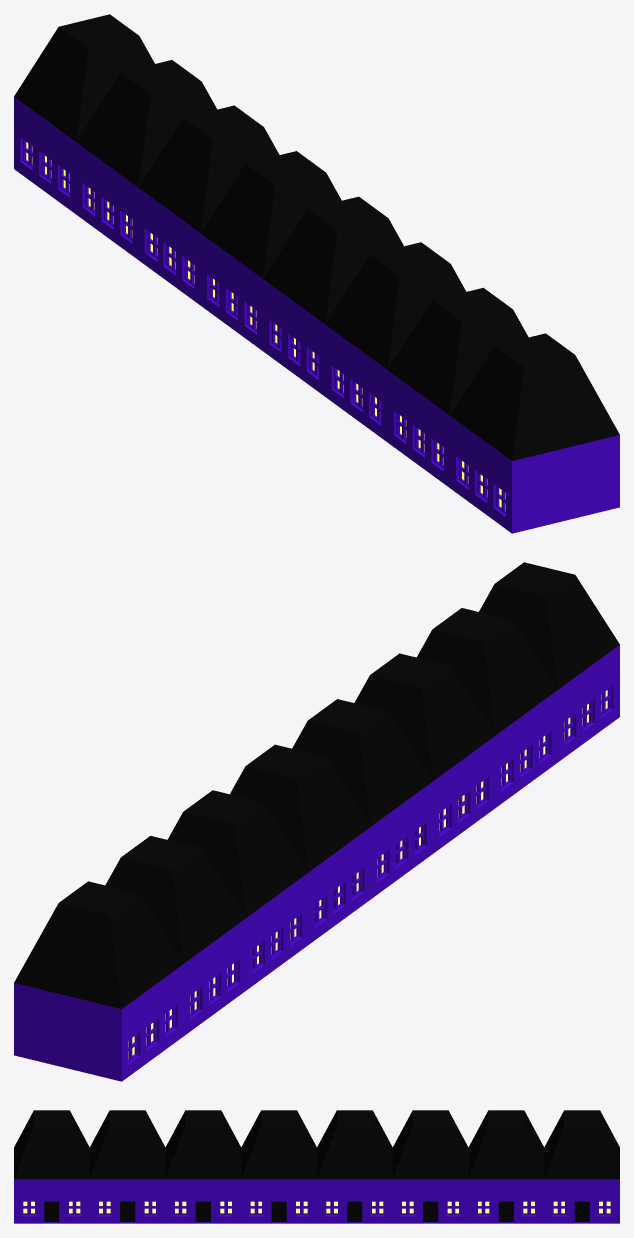
The model's file is bungalows_1(8).fbx.
The picture shows the model from 3 angles, top to bottom: view 1: azimuth 30°, elevation 25°; view 2: azimuth 150°, elevation 25°; view 3: azimuth 270°, elevation 25°; orthographic projection. The views are drawn at different scales.
Visible parts, largest first — view 1: Cube; view 2: Cube; view 3: Cube.
Boxes of the visible parts, box(x1,y1,x2,y2) form: Cube: box(14, 14, 619, 533); Cube: box(14, 562, 619, 1081); Cube: box(14, 1110, 619, 1223).
Size of the model in its own units: 28 by 36.56 by 224.
